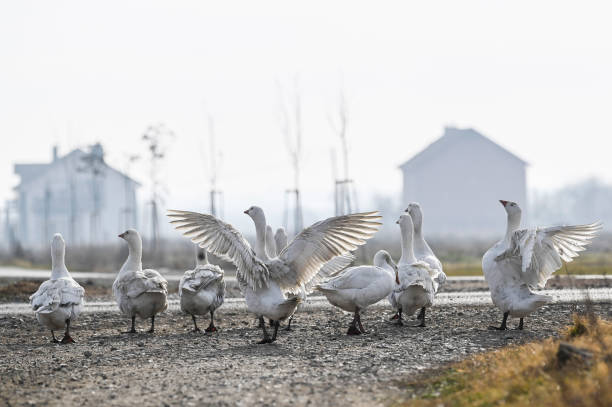goose: (228, 198, 304, 353), (477, 193, 559, 332), (312, 248, 398, 344), (107, 224, 173, 343), (31, 232, 82, 353), (181, 222, 228, 342), (389, 213, 435, 330), (402, 197, 448, 294)
